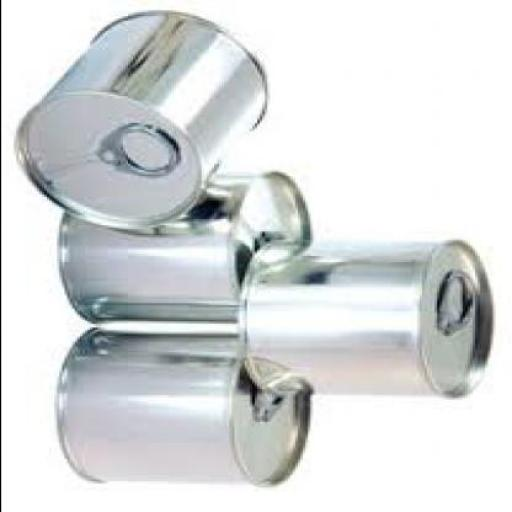metal: (20, 8, 274, 232), (238, 240, 494, 398), (56, 326, 312, 483), (58, 170, 312, 326)
